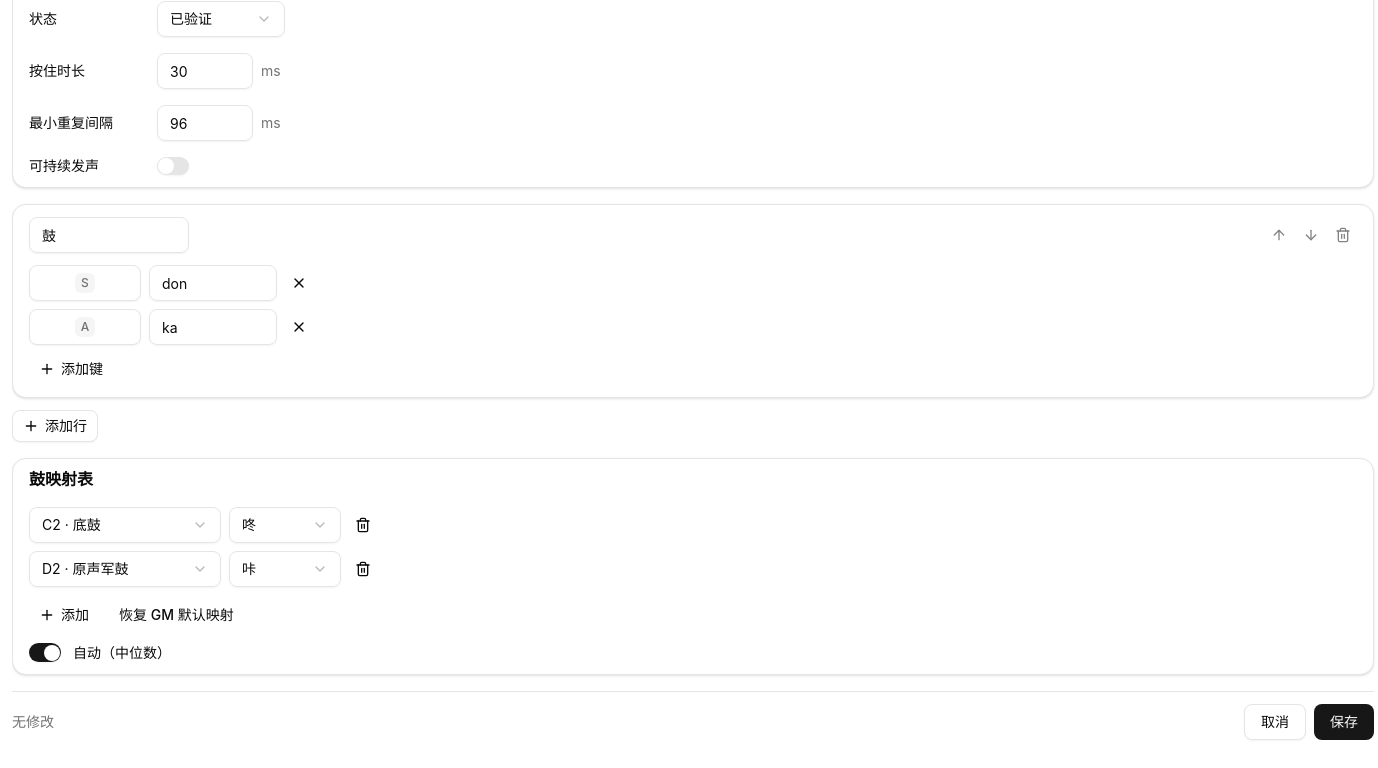
it: InstrumentEditor › 分界音高：关闭自动后可输入音名
(page scrolled)
Click the switch named "自动（中位数）" next to "自动（中位数）" at (45, 653), box left=29, top=643, right=61, bottom=662
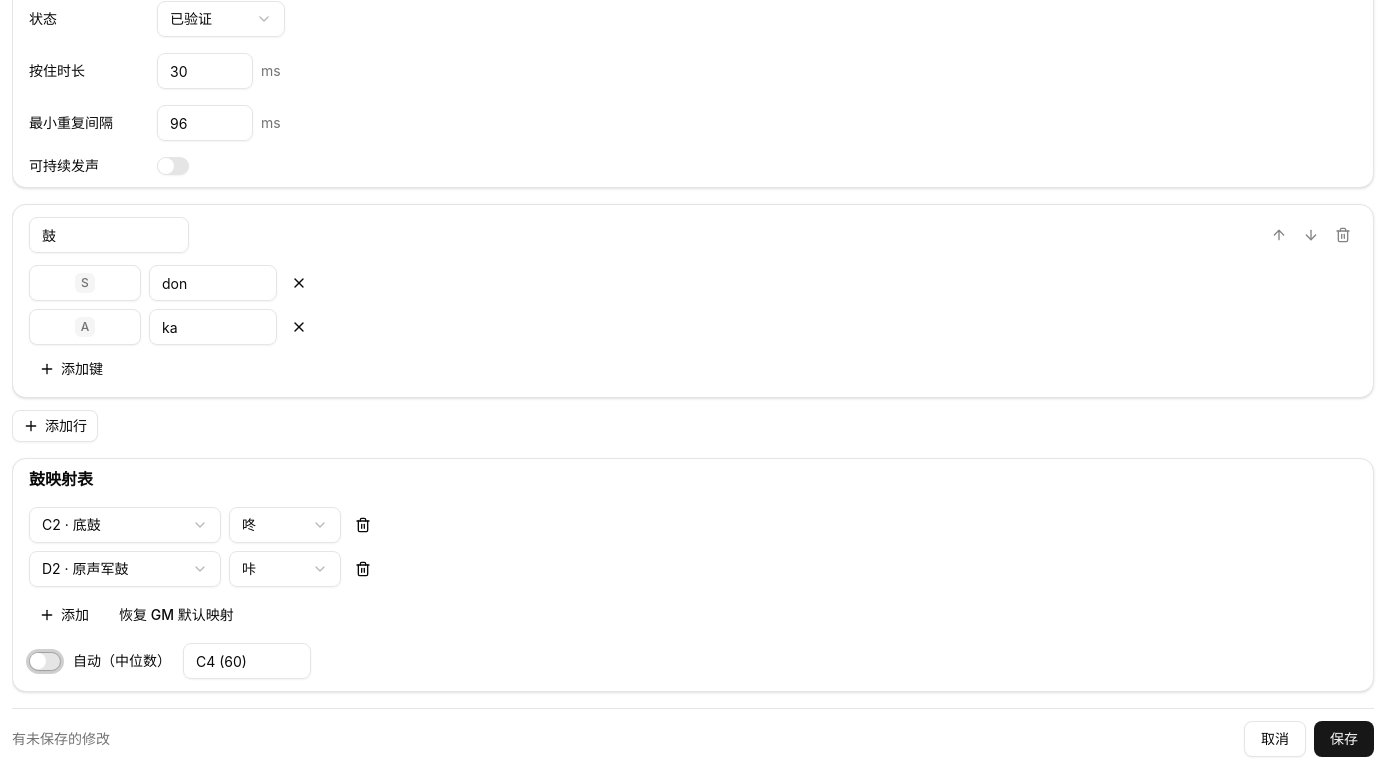
Replace the text in the field named "分界音高" with "C4" at (247, 661), box left=183, top=643, right=311, bottom=679
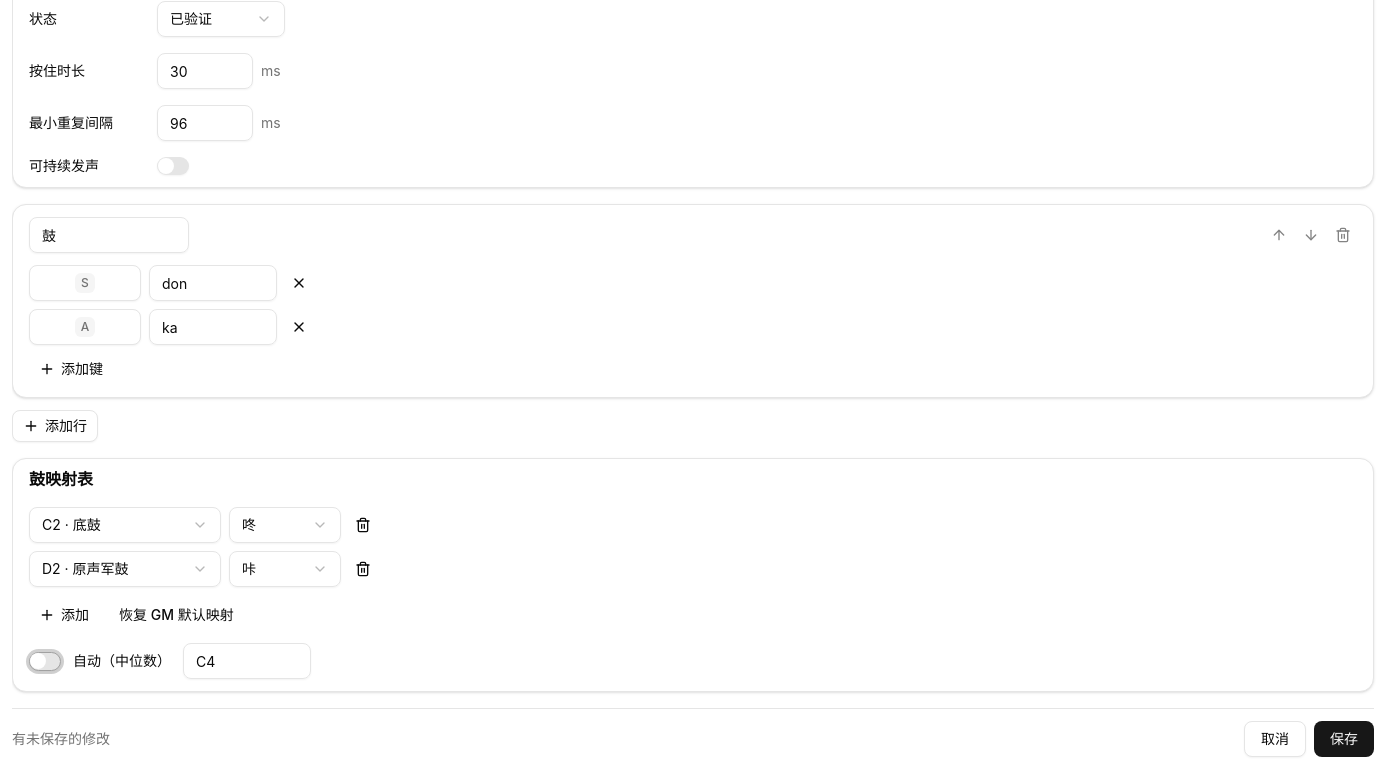
Leave the field named "分界音高", box left=183, top=643, right=311, bottom=679
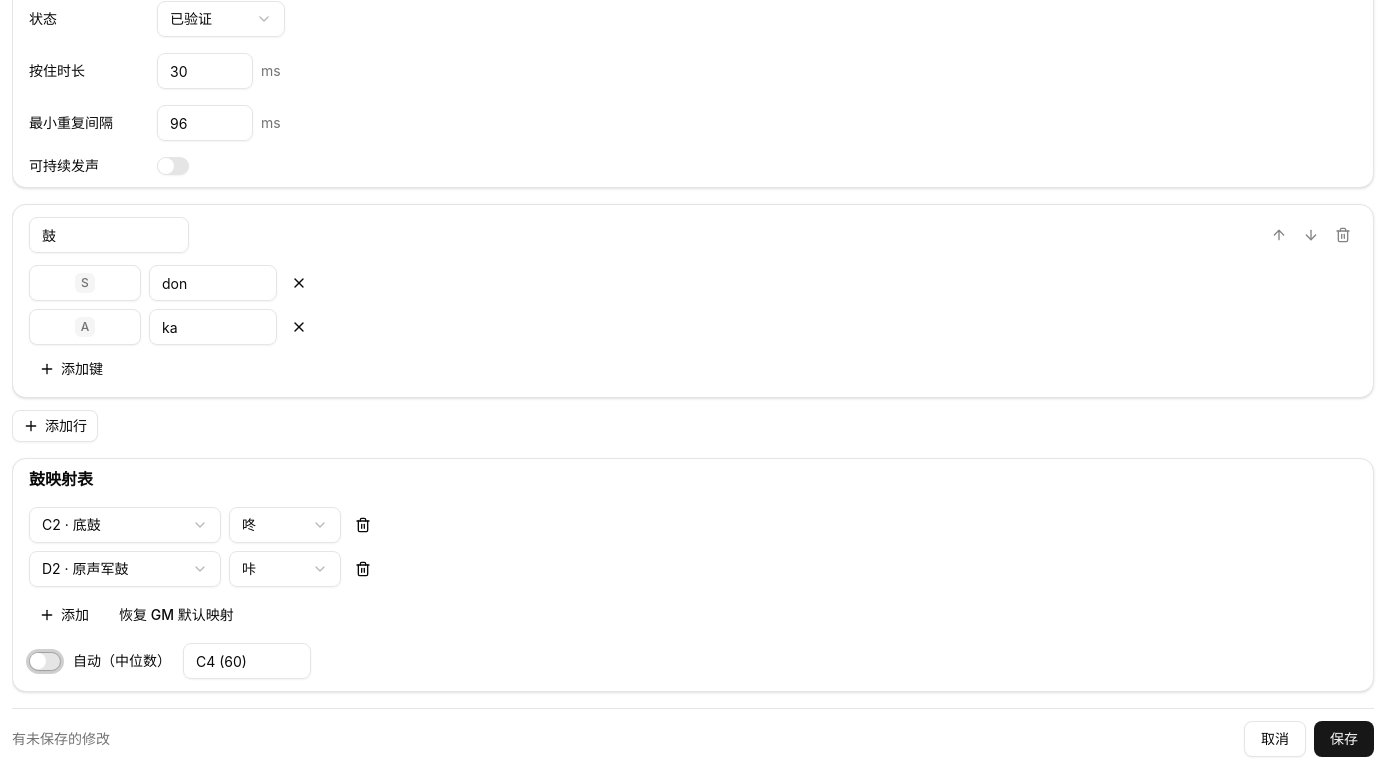
Now the field named "分界音高" holds "C4 (60)", box left=183, top=643, right=311, bottom=679
